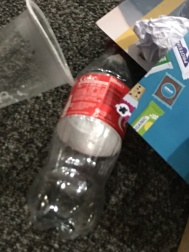bottle_red: (36, 21, 138, 247)
